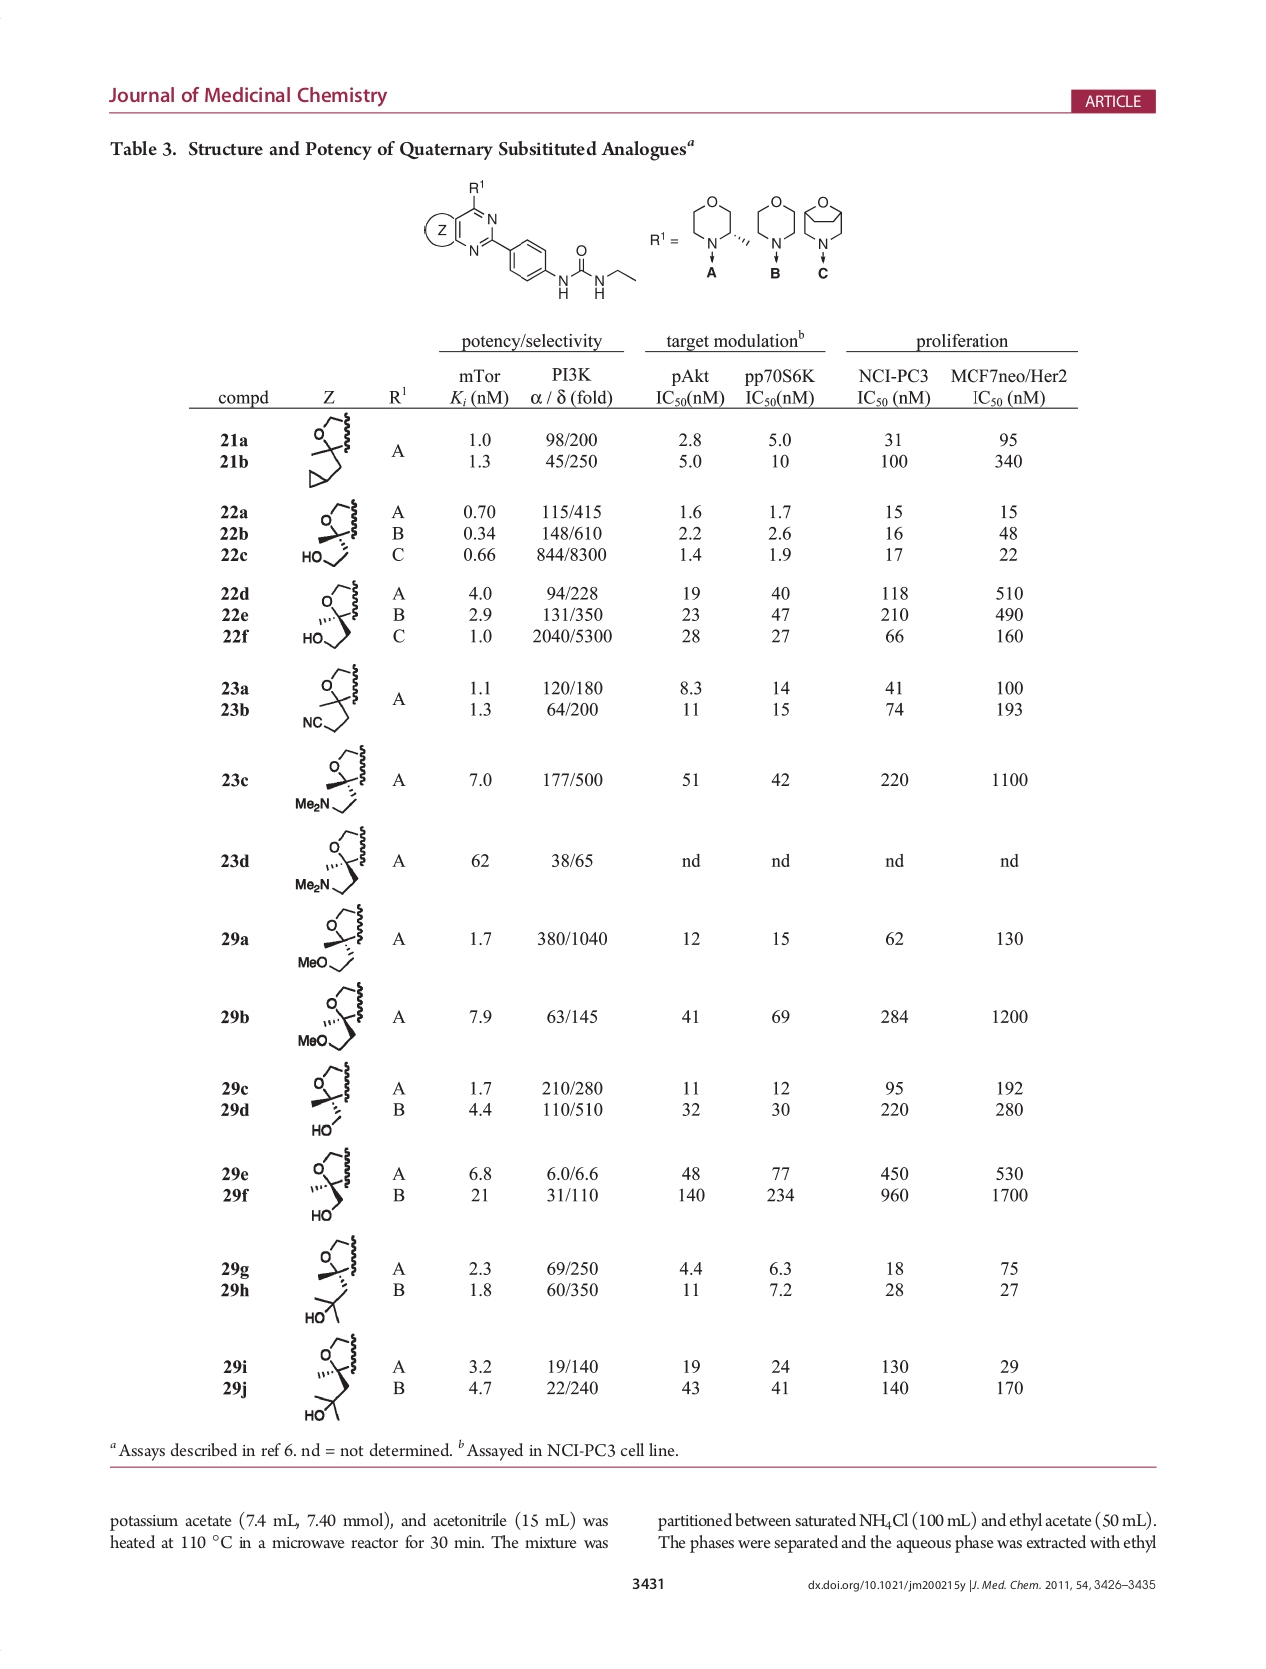exist_molecular: (422, 176, 638, 305), (291, 822, 368, 900), (303, 1326, 359, 1431), (688, 193, 751, 283), (305, 1227, 360, 1329), (294, 743, 368, 818), (297, 977, 366, 1053), (295, 902, 367, 973), (301, 575, 362, 656), (299, 493, 360, 571), (301, 662, 362, 735), (305, 1057, 355, 1142), (802, 189, 847, 283), (302, 410, 354, 489), (305, 1142, 355, 1223), (755, 190, 799, 281)
